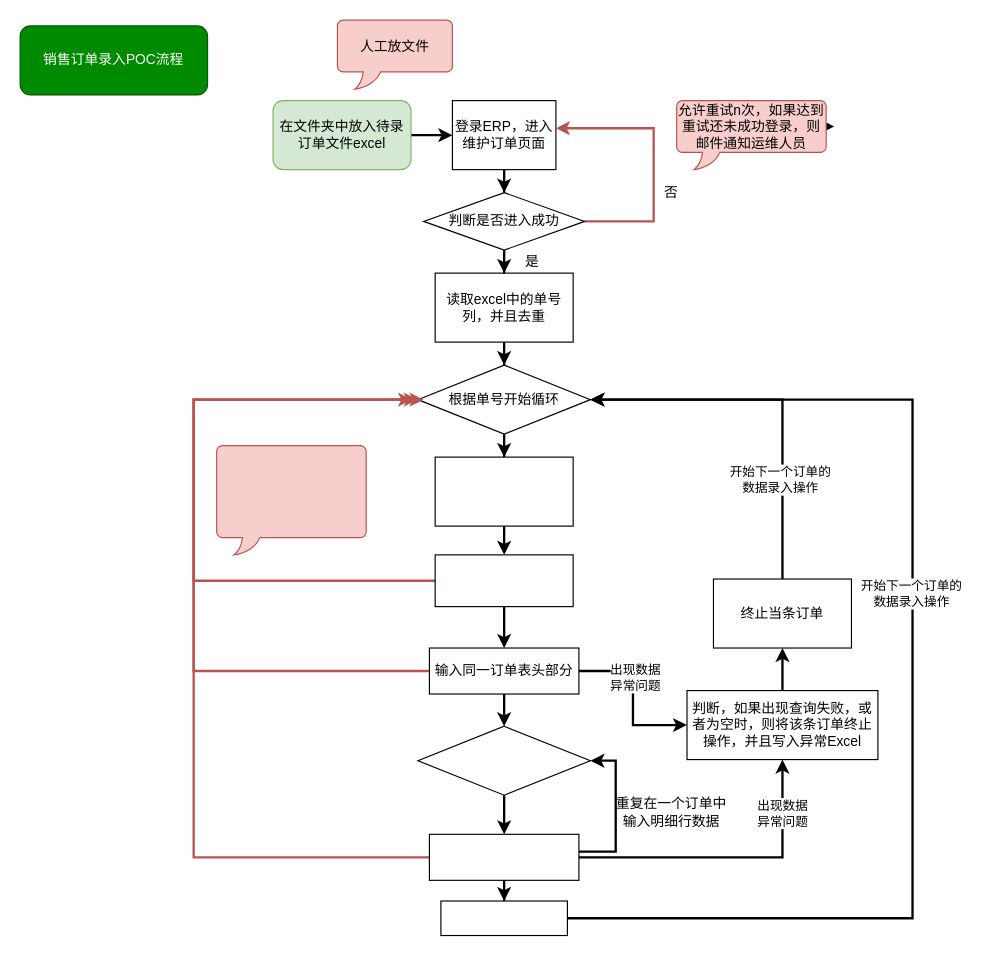
This 981x956 diagram has some shape labels left out. The box of each missing label's shape, as (x1, y1, x2, y2) in pixels:
保存前任何一步操作报错，则关闭ERP重新进入维护订单页面，重复该单号录入操作: (216, 444, 366, 555)
根据明细行循环: (417, 725, 590, 795)
点击【保存】: (440, 900, 567, 936)
点击【新建订单】: (434, 554, 573, 607)
筛选excel中的当前号明细内容【单条或者多条数据行】: (434, 456, 573, 526)
输入订单明细部分: (428, 833, 579, 880)
